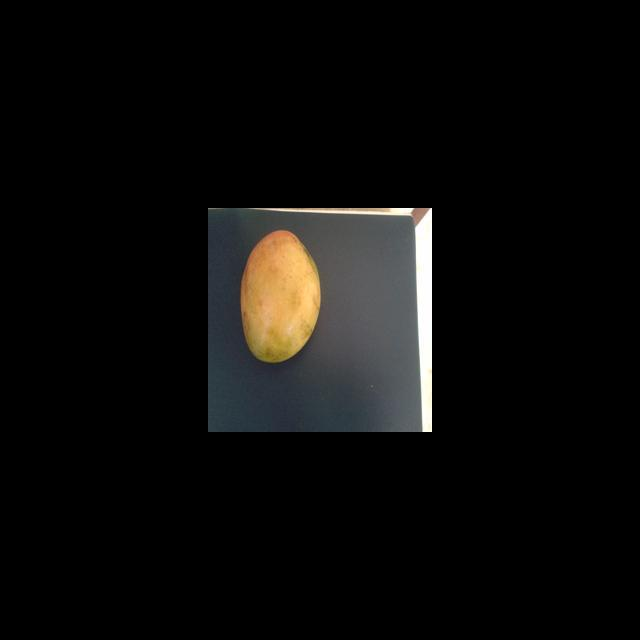Mango: (239, 229, 321, 363)
